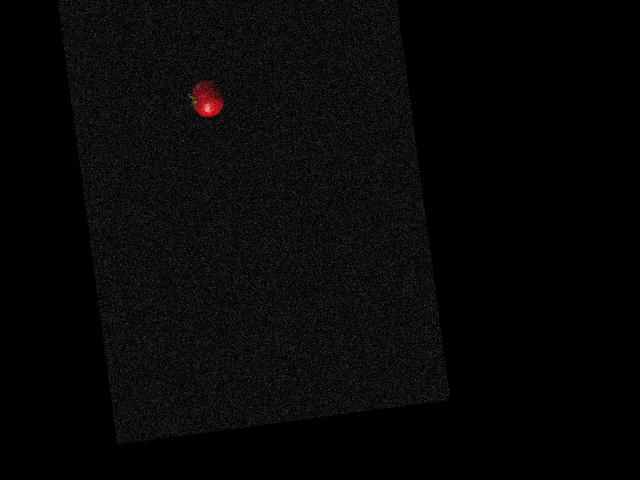tomato: (189, 78, 225, 118)
